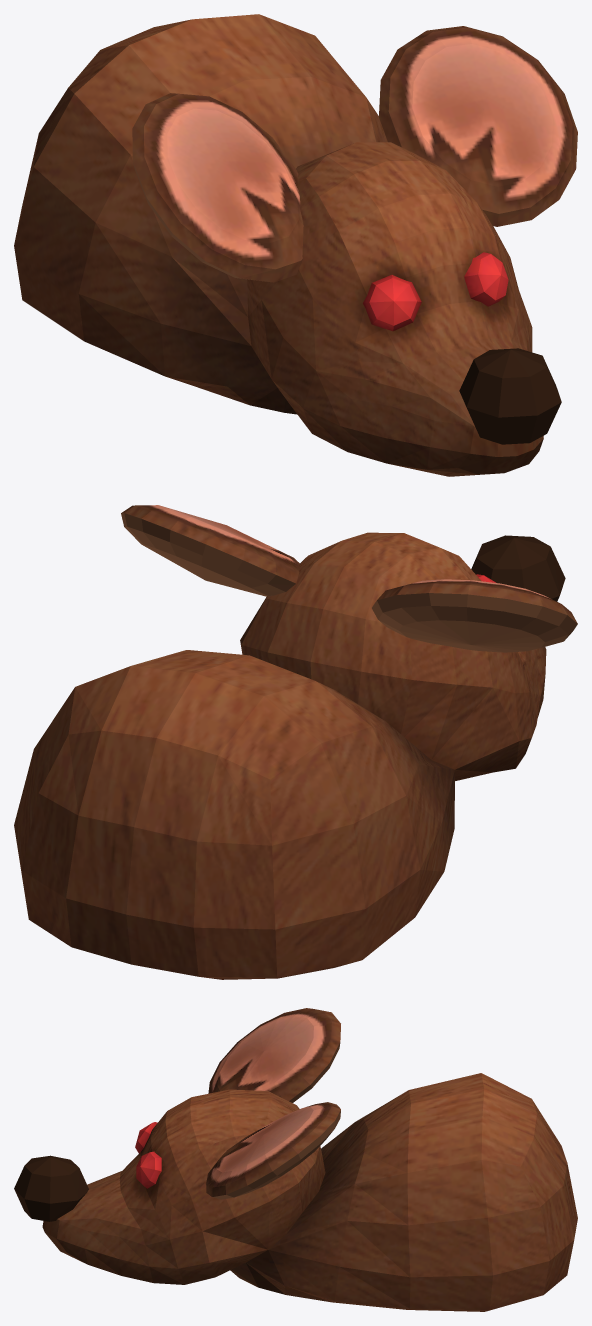
The model's file is Rat.obj.
3 views of the same model, one above another, from view 1: azimuth 30°, elevation 25°; view 2: azimuth 150°, elevation 25°; view 3: azimuth 270°, elevation 25° (orthographic). The views are drawn at different scales.
Parts seen in each view (by area): view 1: Model; view 2: Model; view 3: Model.
Boxes of the visible parts, x1=… form: Model: x1=14, y1=14, x2=577, y2=476; Model: x1=14, y1=505, x2=577, y2=979; Model: x1=14, y1=1008, x2=577, y2=1311.
Bounding box in the file's own units: 0.5501 × 0.3766 × 0.9257.
1 material, 1 textured.
